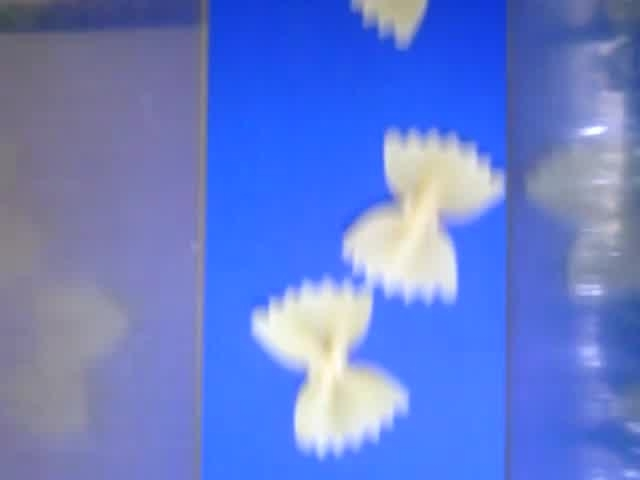farfalle: (342, 127, 508, 305), (251, 277, 412, 458), (349, 1, 438, 50)
